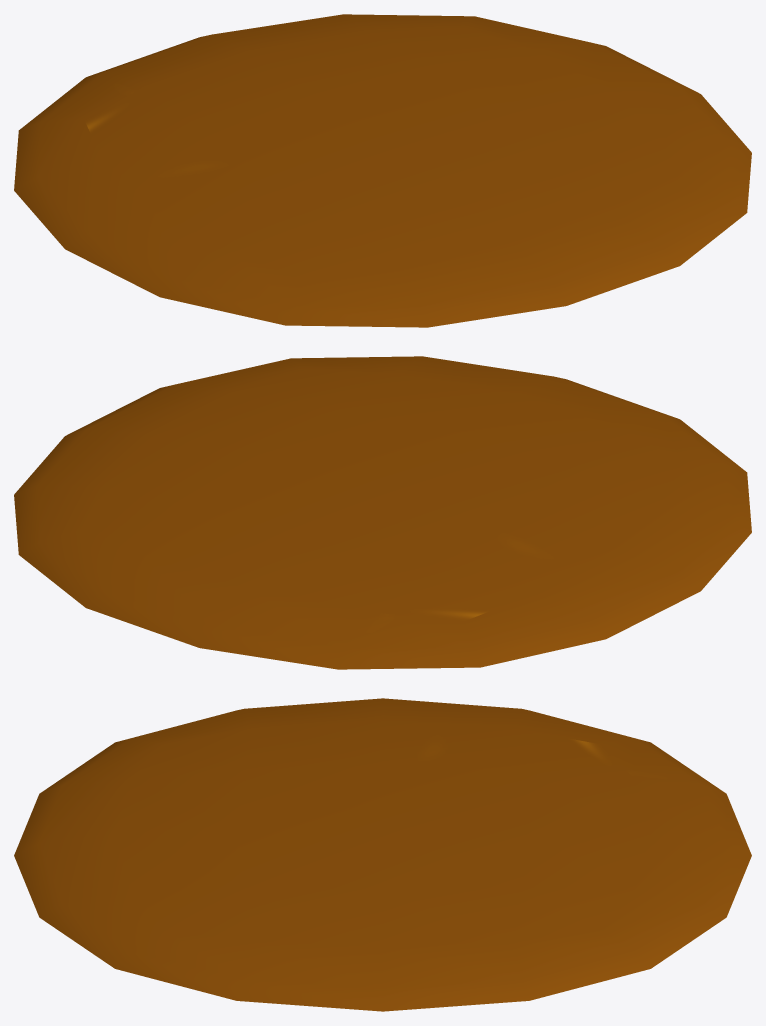
File: MudColor_11cm.fbx
The picture shows the model from 3 angles, top to bottom: view 1: azimuth 30°, elevation 25°; view 2: azimuth 150°, elevation 25°; view 3: azimuth 270°, elevation 25°; orthographic projection.
Visible parts, largest first — view 1: MuDColoR; view 2: MuDColoR; view 3: MuDColoR.
Boxes of the visible parts, box(x1,y1,x2,y2) form: MuDColoR: box(14, 14, 751, 327); MuDColoR: box(14, 356, 751, 669); MuDColoR: box(14, 698, 751, 1011).
Size of the model in its own units: 1847 by 83.95 by 1847.
1 material, 1 textured.
